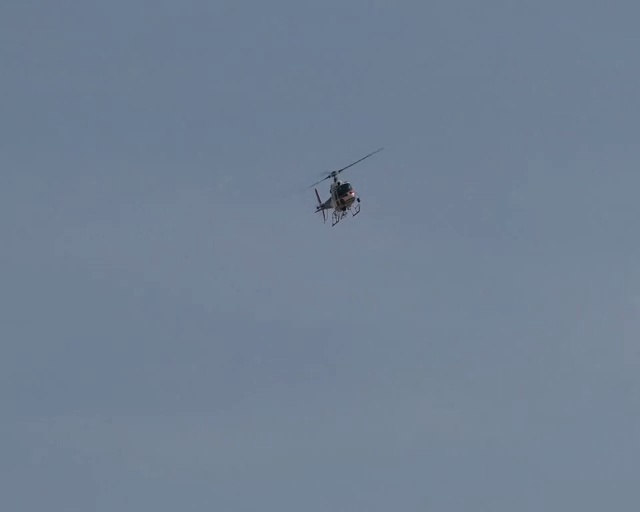HELICOPTER: (305, 148, 384, 227)
